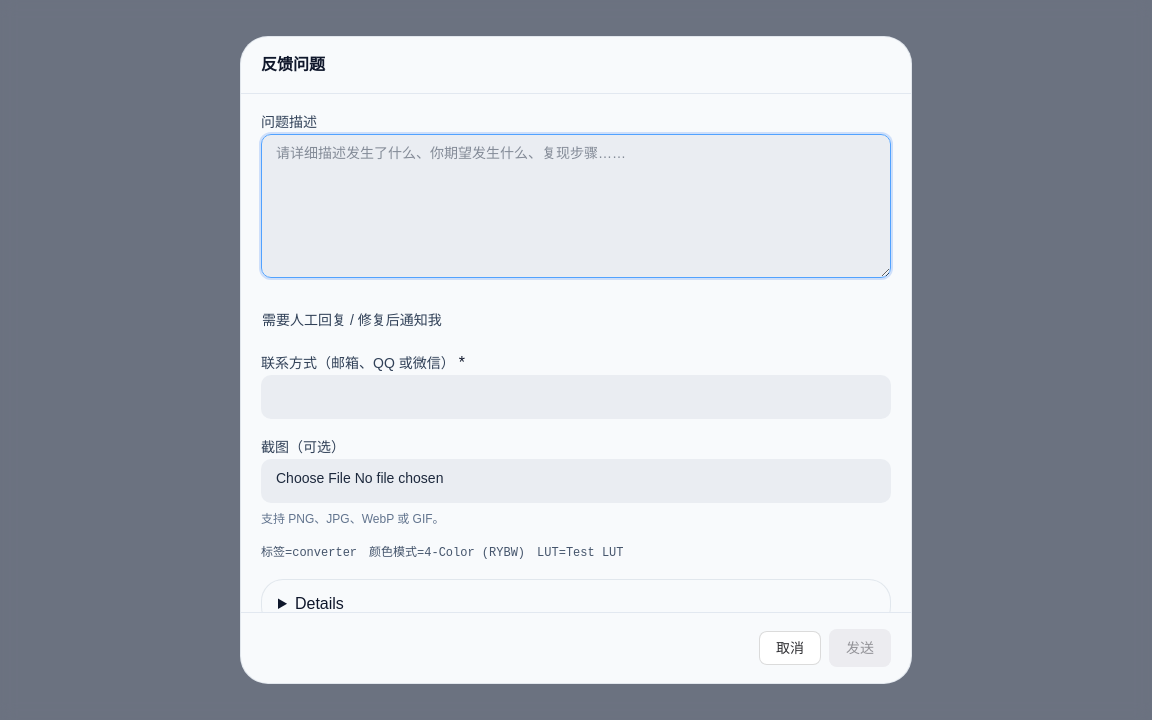
Scenario: BugReportModal › shows the not_applicable original-image result
Type "Check source attachment status." into the text box labelled "问题描述" at (576, 206), box [261, 134, 891, 278]
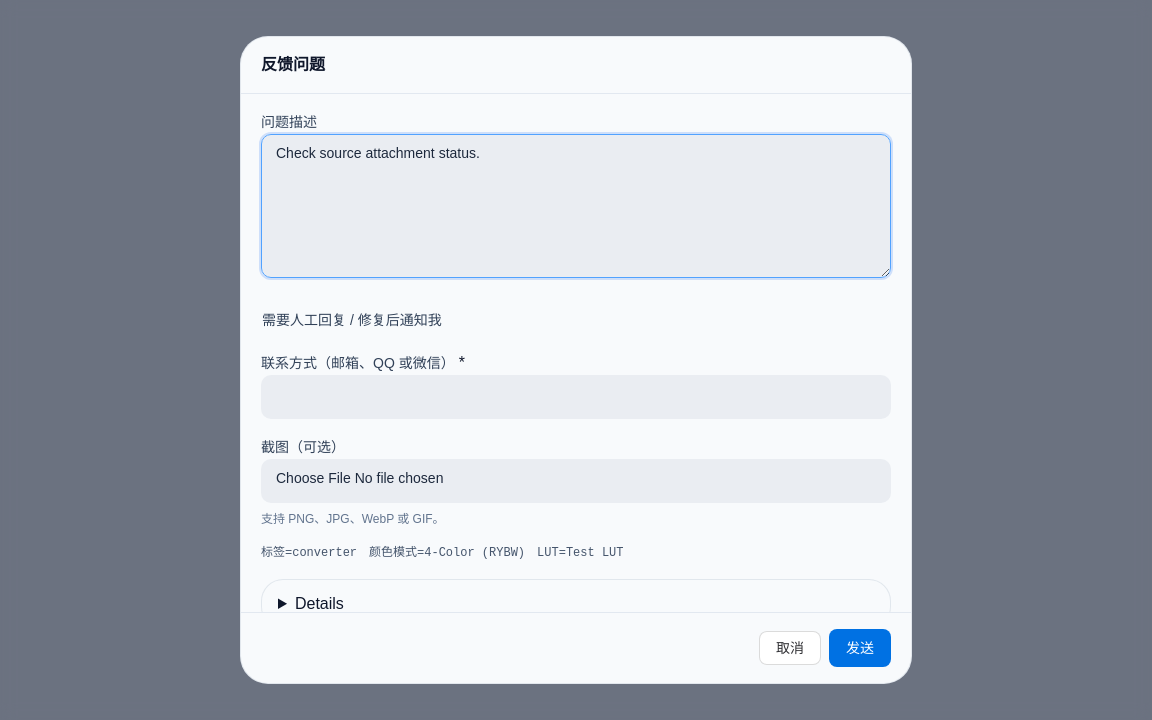
Click the switch labelled "需要人工回复 / 修复后通知我" at (352, 320), box [262, 310, 442, 330]
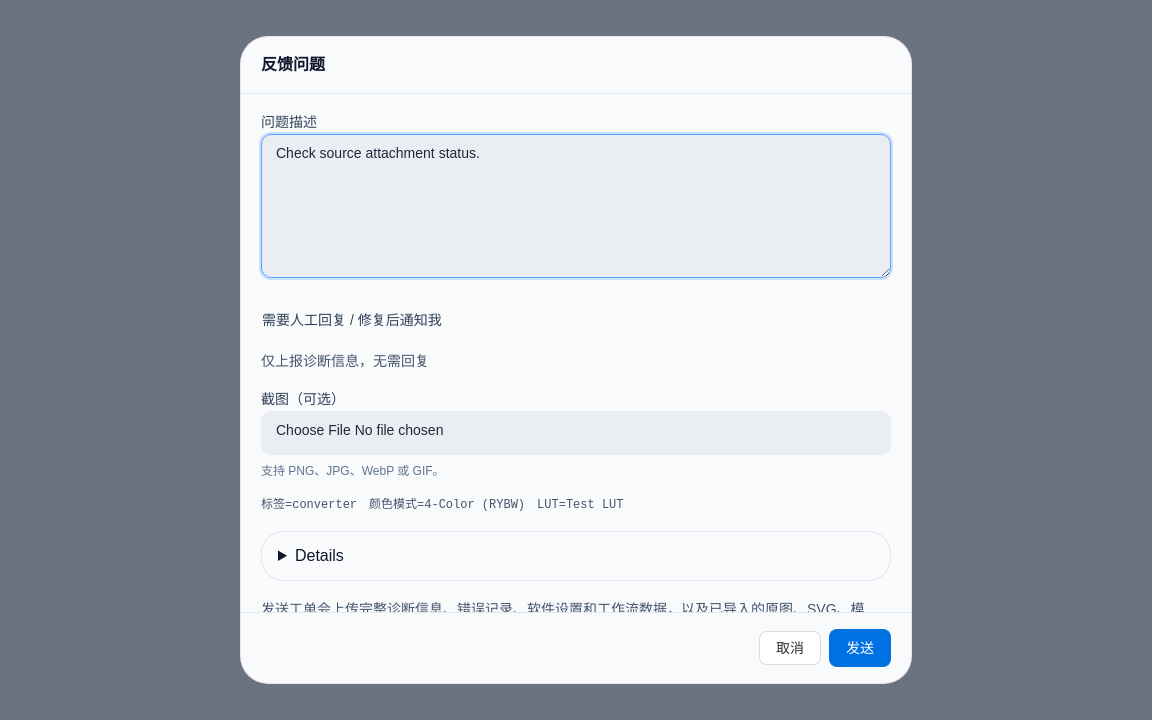
Click the button "发送" at (860, 648), box [829, 629, 891, 667]
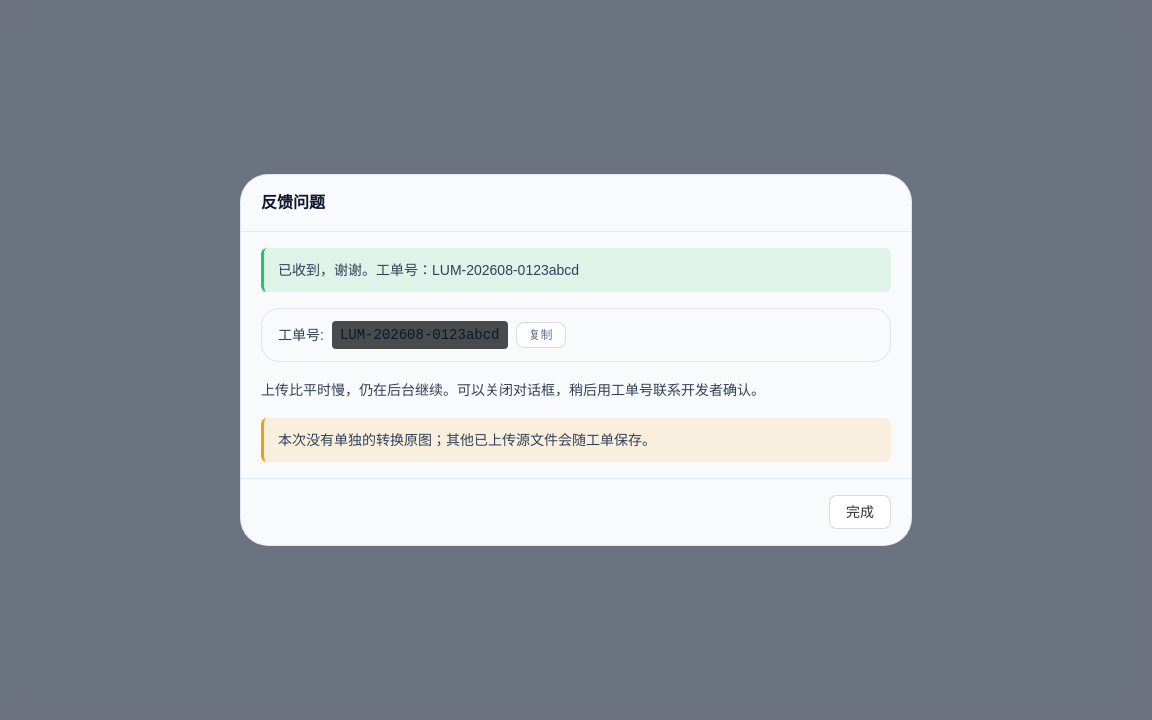
Check: the text with test id "bug-report-original-image-status" shows "本次没有单独的转换原图", box [278, 432, 656, 448]
